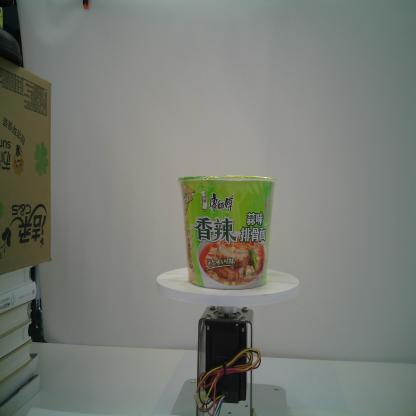Instant Noodles: (178, 174, 276, 290)
